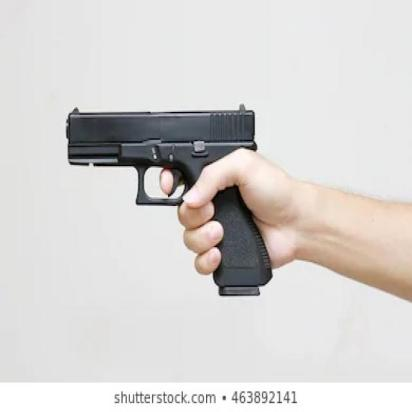Gun: (62, 100, 264, 291)
